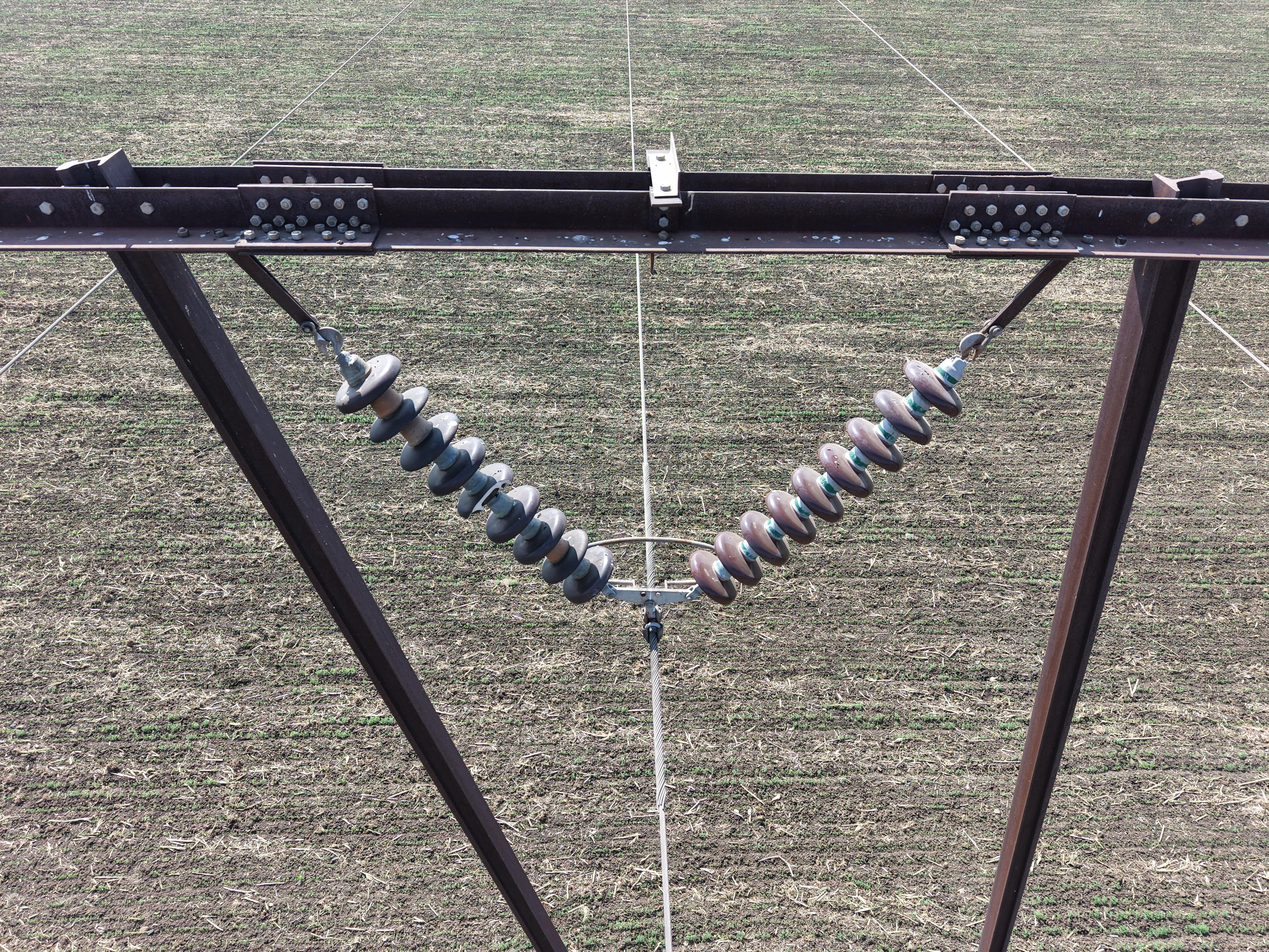broken_insulator: (456, 463, 514, 520)
